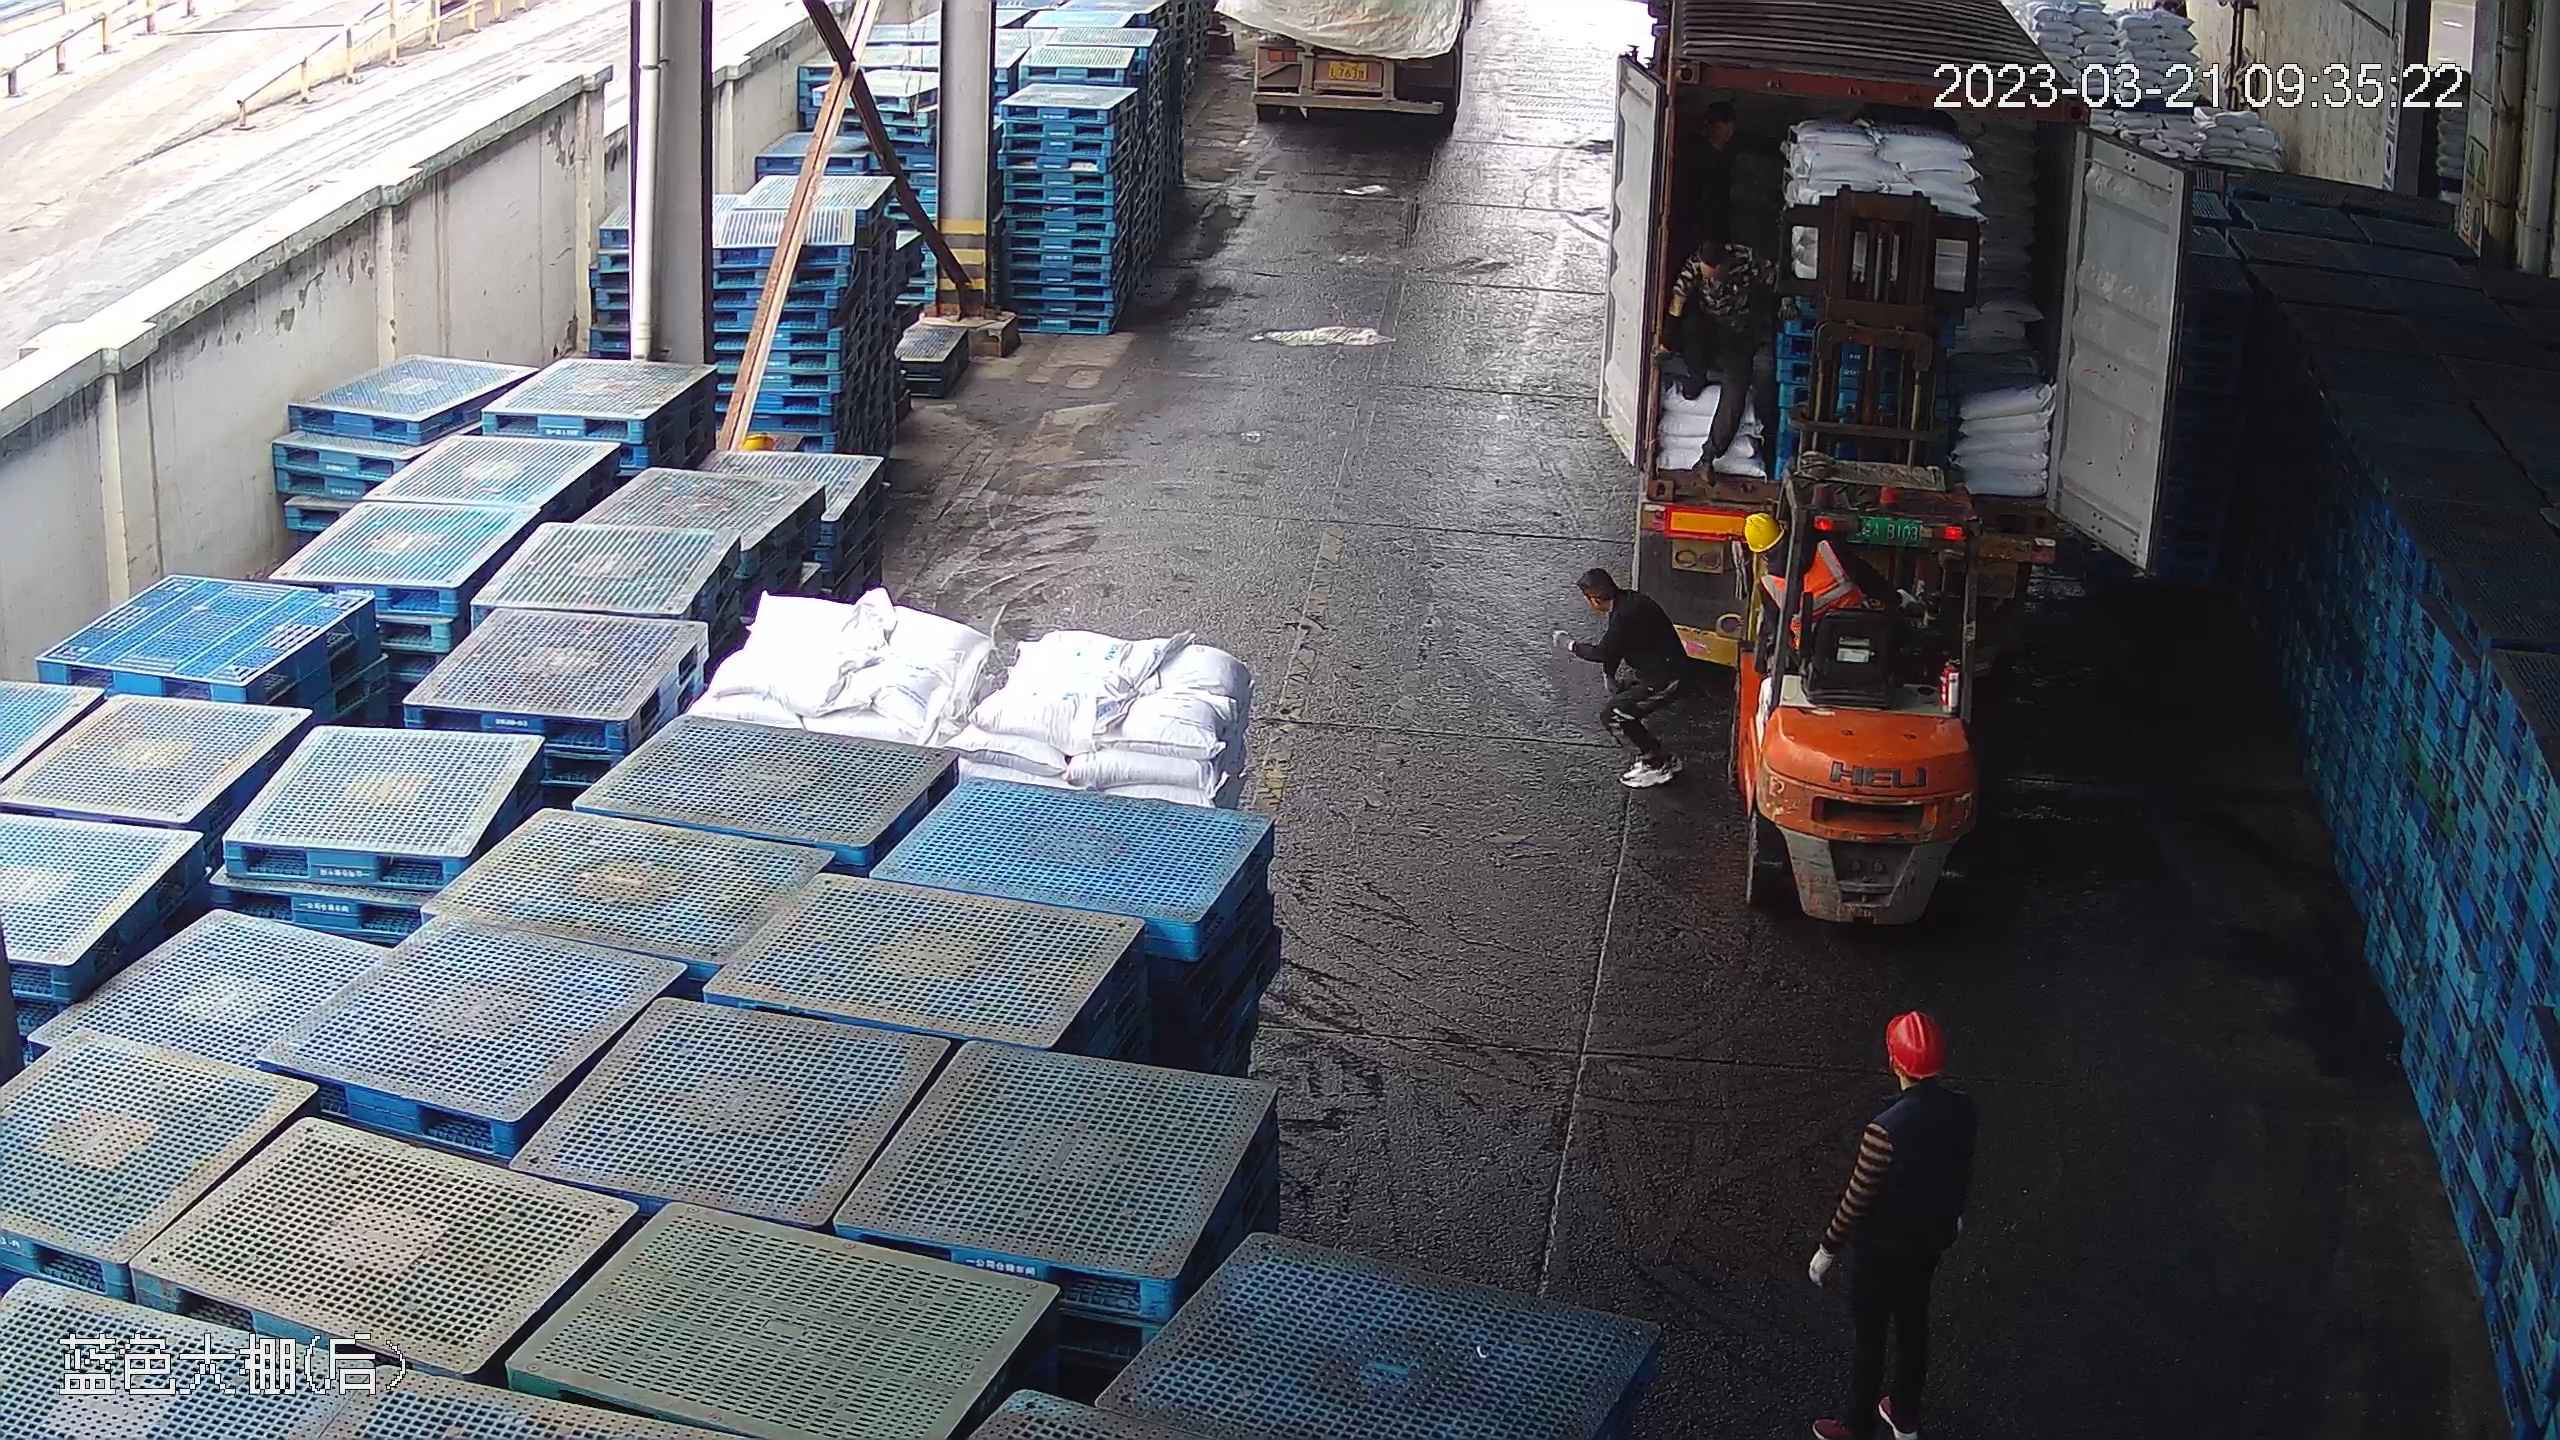head: (1856, 1008, 1976, 1141), (1574, 563, 1654, 641)
helmet: (1884, 1007, 1947, 1073), (1742, 510, 1783, 552)
people: (1805, 1001, 1980, 1440), (1588, 574, 1749, 785), (1660, 235, 1775, 486)
truck: (1231, 1, 1481, 125)
